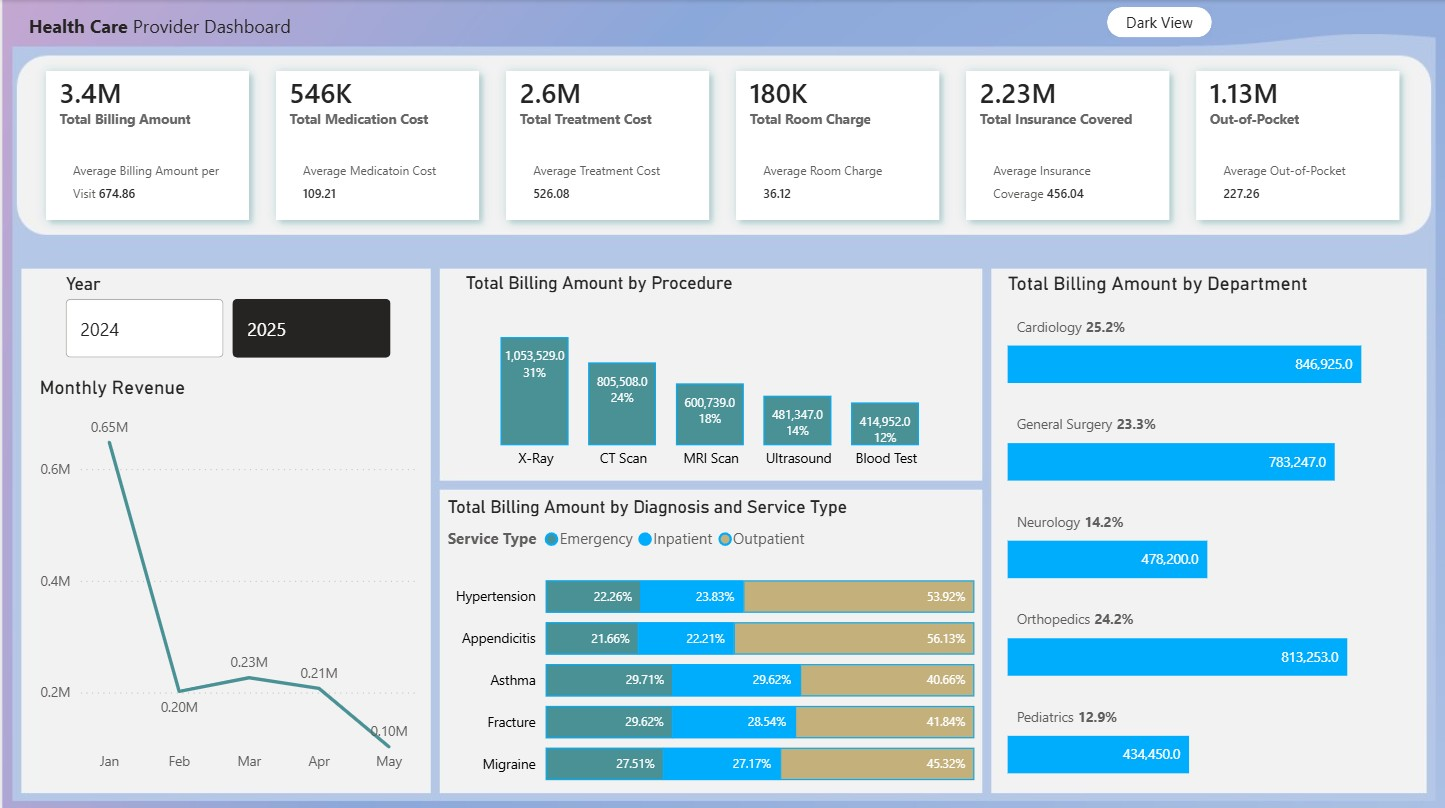

The page's visual inventory and layout, read from the dashboard file:
{"tool":"powerbi","page":{"name":"Light View","canvas":[1280,720],"ordinal":0},"visuals":[{"type":"cardVisual","fields":{"Data":["DAX Calculation.Total Billing Amount","DAX Calculation.Total Medication Cost","DAX Calculation.Total Treatment Cost","DAX Calculation.Total Room Charge","DAX Calculation.Total Insurance Covered","DAX Calculation.Out-of-Pocket"]},"box":[0,24,1280,210.6],"z":0},{"type":"clusteredColumnChart","fields":{"Category":["procedures.Procedure"],"Y":["DAX Calculation.Total Billing Amount"]},"box":[406.1,241.2,445.1,183.5],"z":1000},{"type":"hundredPercentStackedBarChart","fields":{"Y":["DAX Calculation.Total Billing Amount"],"Category":["diagnoses.Diagnosis"],"Series":["visits.Service Type"]},"box":[390.1,439.8,477,273.1],"z":2000},{"type":"textbox","box":[18.6,7.1,245.6,33.7],"z":3000},{"type":"clusteredBarChart","title":"Total Billing Amount by Department","fields":{"Category":["departments.Department"],"Y":["DAX Calculation.Blank Measure","DAX Calculation.Total Billing Amount"]},"box":[887.1,241.2,371.6,452.3],"z":4000},{"type":"pageNavigator","box":[979.8,6.2,93.1,27.5],"z":5000},{"type":"lineChart","title":"Monthly Revenue ","fields":{"Category":["DateTable.Month"],"Y":["DAX Calculation.Monthly Revenue"]},"box":[28.6,333.4,344.5,360.2],"z":7000},{"type":"advancedSlicerVisual","fields":{"Values":["DateTable.Year"]},"box":[51.4,241.6,299.1,80.1],"z":8000}]}

Visuals, with their boxes in screenshot pixels (x1, y1, x2, y2), scaled from the page's 1280x720 canvas onto the 1445x808 screenshot:
cardVisual - DAX Calculation.Total Billing Amount x DAX Calculation.Total Medication Cost: box(0, 27, 1444, 263)
clusteredColumnChart - procedures.Procedure x DAX Calculation.Total Billing Amount: box(458, 271, 961, 477)
hundredPercentStackedBarChart - DAX Calculation.Total Billing Amount x diagnoses.Diagnosis: box(440, 494, 979, 800)
textbox: box(21, 8, 298, 46)
"Total Billing Amount by Department" clusteredBarChart: box(1001, 271, 1421, 778)
pageNavigator: box(1106, 7, 1211, 38)
"Monthly Revenue " lineChart: box(32, 374, 421, 778)
advancedSlicerVisual - DateTable.Year: box(58, 271, 396, 361)
